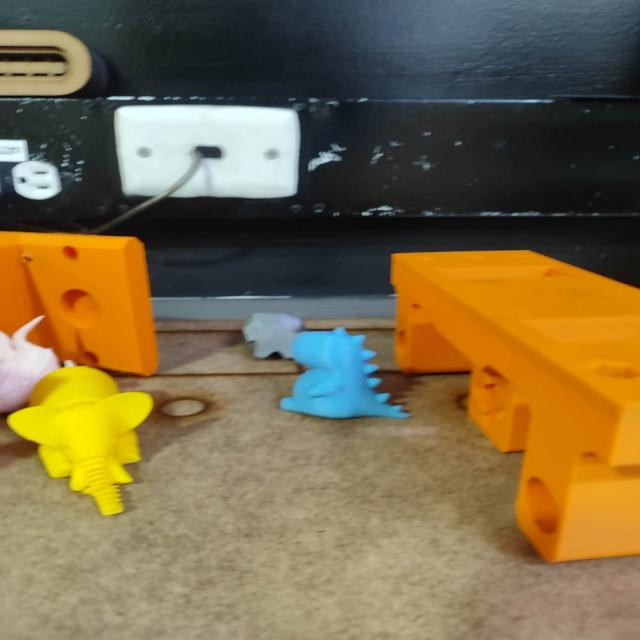DINO: (245, 322, 419, 432)
